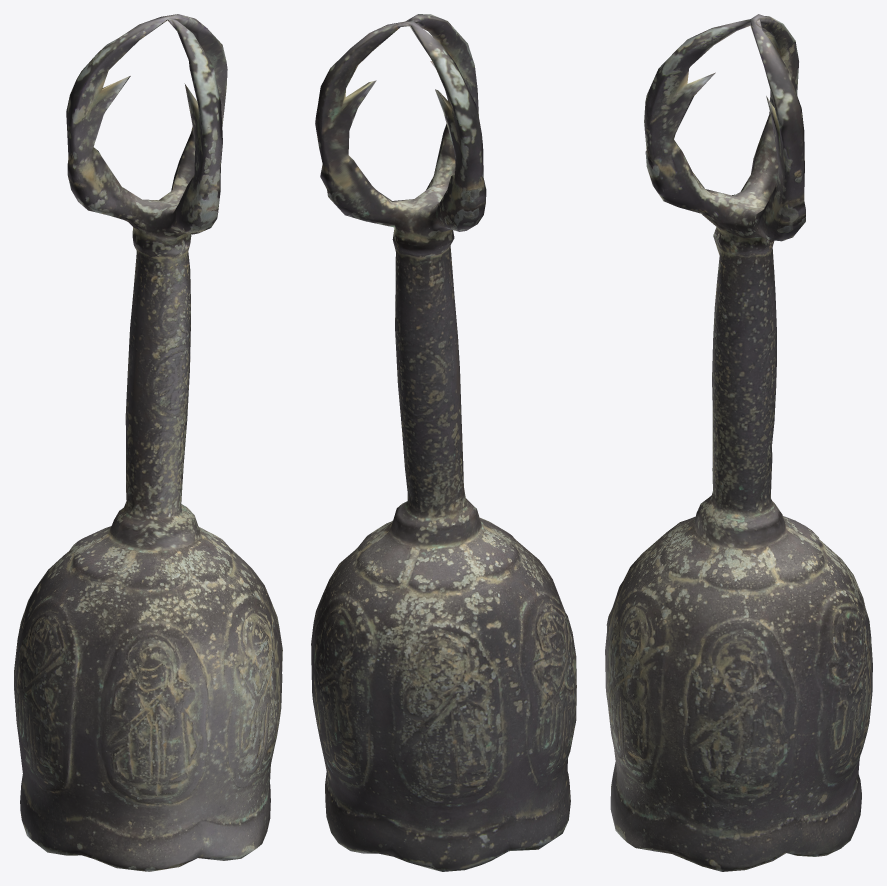
The model's file is SM_Bronze_Vajra_Bell.fbx.
3 views of the same model, side by side, from view 1: azimuth 30°, elevation 25°; view 2: azimuth 150°, elevation 25°; view 3: azimuth 270°, elevation 25° (orthographic). The views are drawn at different scales.
Parts seen in each view (by area): view 1: KCDF_2022_prop_Bronze_Vajra_Bell_Mesh; view 2: KCDF_2022_prop_Bronze_Vajra_Bell_Mesh; view 3: KCDF_2022_prop_Bronze_Vajra_Bell_Mesh.
Boxes of the visible parts, x1,y1,x2,y2 form: KCDF_2022_prop_Bronze_Vajra_Bell_Mesh: [14, 14, 282, 871]; KCDF_2022_prop_Bronze_Vajra_Bell_Mesh: [311, 14, 576, 871]; KCDF_2022_prop_Bronze_Vajra_Bell_Mesh: [605, 14, 872, 871].
Bounding box in the file's own units: 13.23 × 41.99 × 12.47.
1 material, 1 textured.
